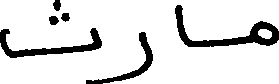ا: (173, 2, 189, 46)
ث: (0, 0, 101, 61)
ر: (115, 30, 153, 82)
م: (250, 19, 277, 46)
